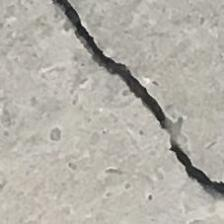Crack: (32, 0, 224, 213)
